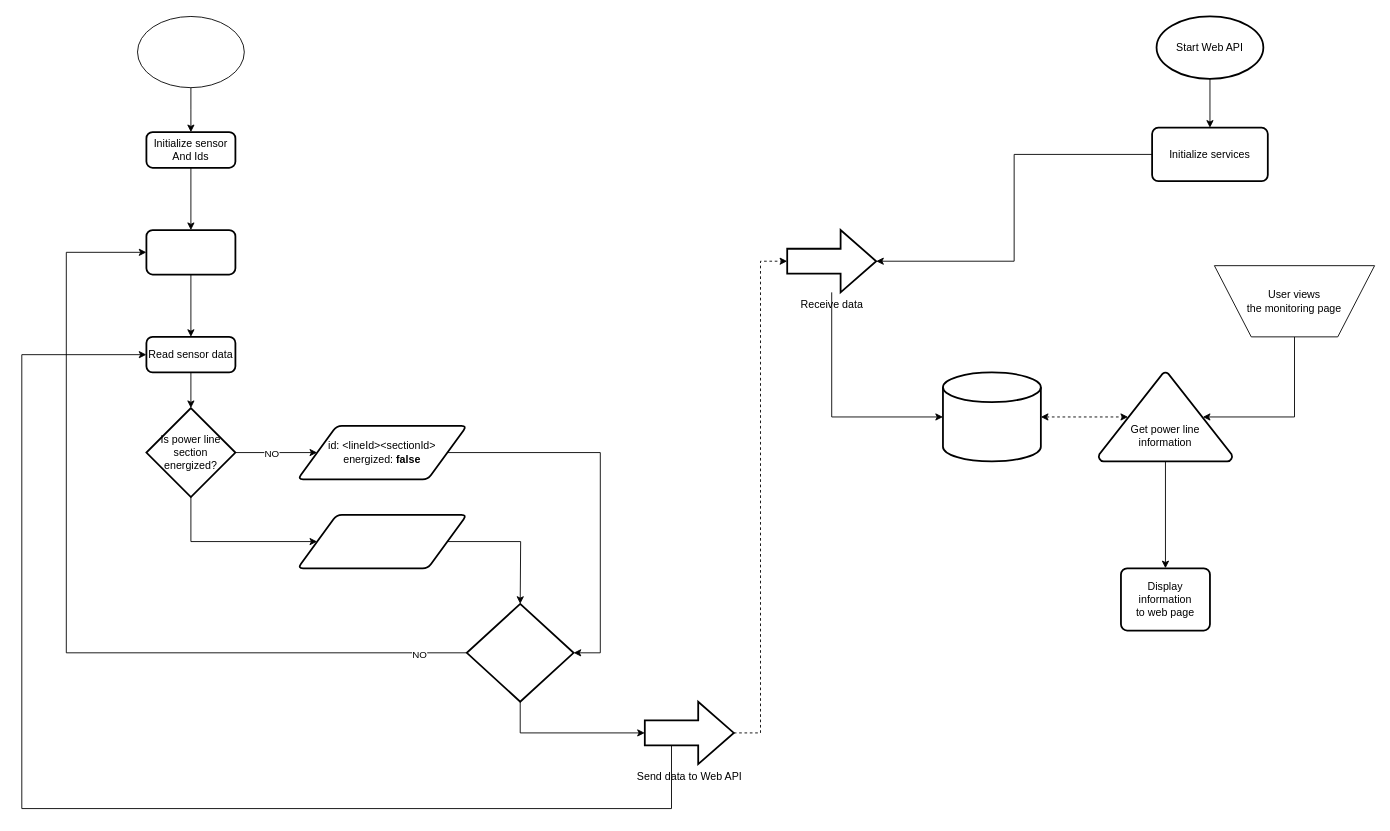
The diagram is 1390 pixels wide and 831 high, and some of its shapes have lost their labels. Each missing label, with the box of its shape:
Connect to internet: (145, 229, 236, 275)
Device Data: (942, 371, 1041, 462)
id: <lineId><sectionId> energized: true: (296, 514, 467, 569)
Is connected to internet?: (465, 603, 574, 702)
Start Device: (137, 16, 244, 88)
